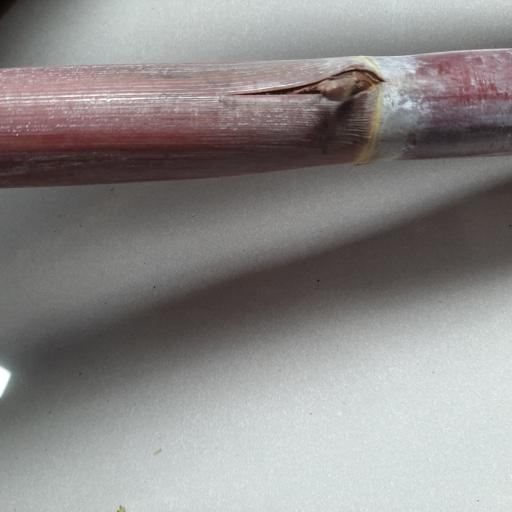Damage_Bud: (281, 69, 384, 101)
